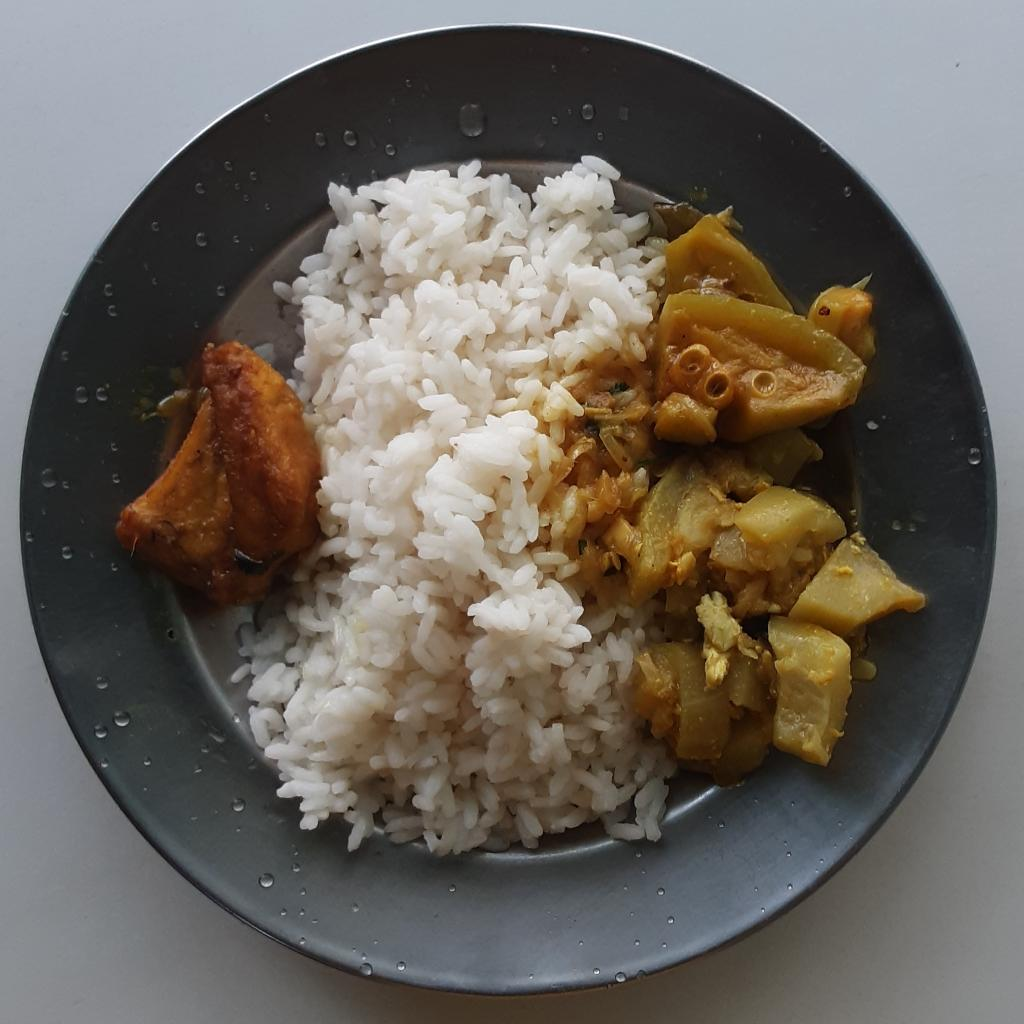fish: (119, 342, 317, 608)
lau: (580, 411, 927, 785)
potol: (648, 217, 881, 451)
rice: (232, 153, 680, 855)
